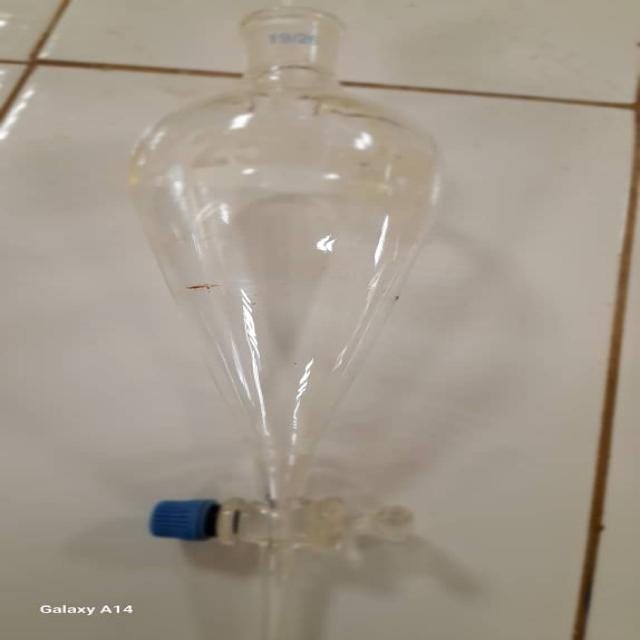Separating Funnel: (135, 6, 437, 640)
